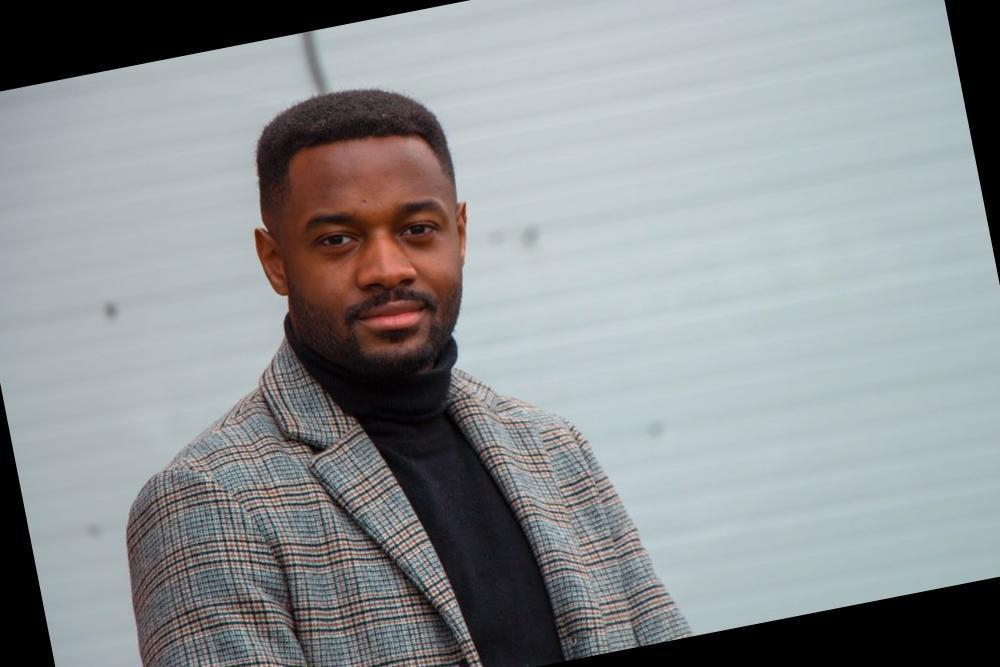Sober: (291, 153, 455, 362)
